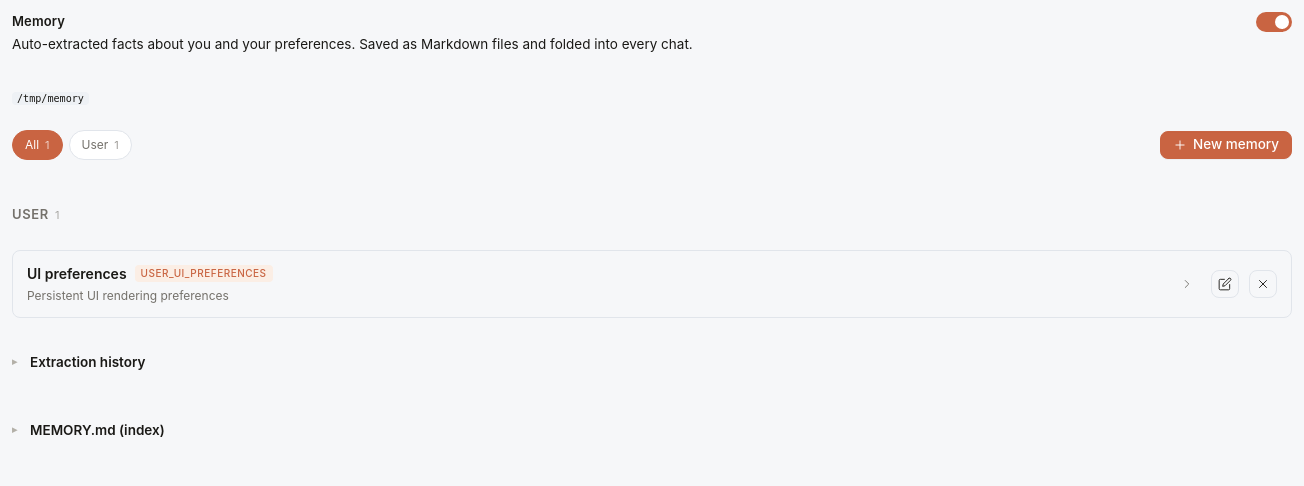
Test case: MemorySection › deletes an existing memory entry from the list
Click the button titled "Delete".
click(1263, 284)  # box [1249,270,1277,298]
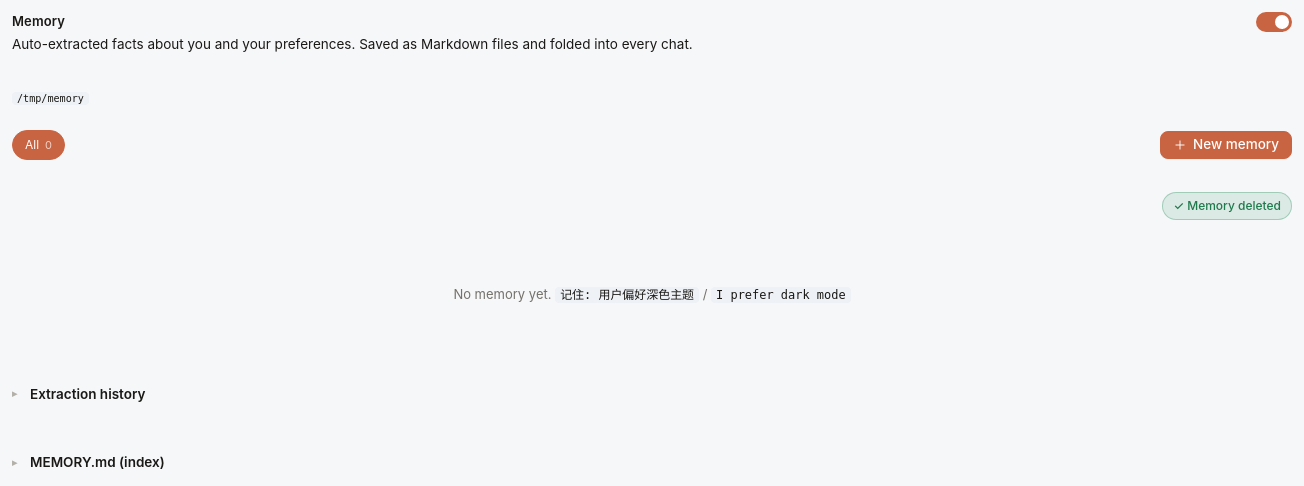
Result: the text "✓ Memory deleted" is shown at [1162,192,1292,220]
Result: the text "No memory yet. 记住: 用户偏好深色主题 / I prefer dark mode" is shown at [453,286,851,303]
